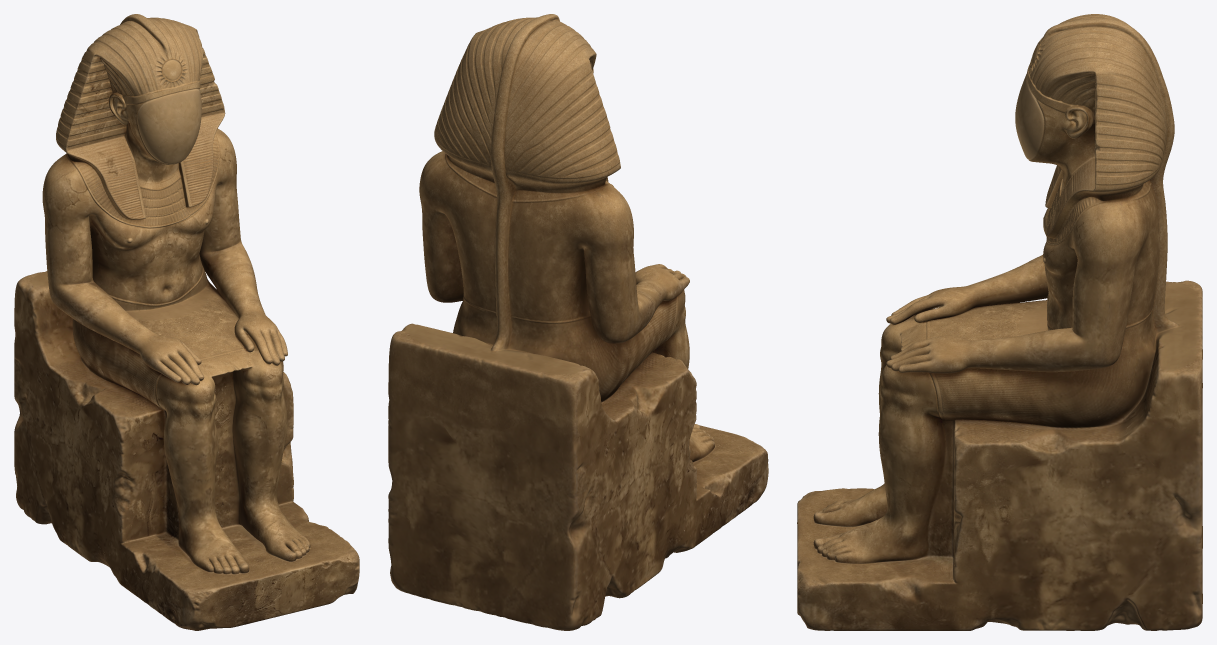
The model's file is Colosse.glb.
3 renders of one model, left to right at view 1: azimuth 30°, elevation 25°; view 2: azimuth 150°, elevation 25°; view 3: azimuth 270°, elevation 25°, orthographic. The views are drawn at different scales.
Size of the model in its own units: 0.7438 by 1.9 by 1.24.
1 material, 1 textured.
